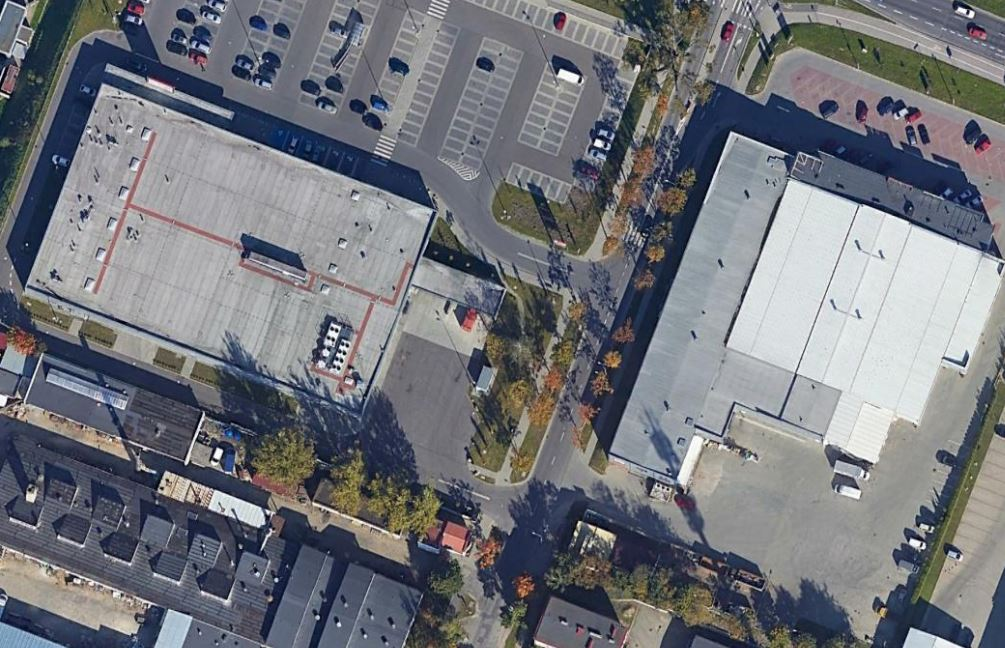block of flats: (1, 415, 437, 645)
shopping_center: (595, 97, 1005, 518), (26, 72, 463, 423)
